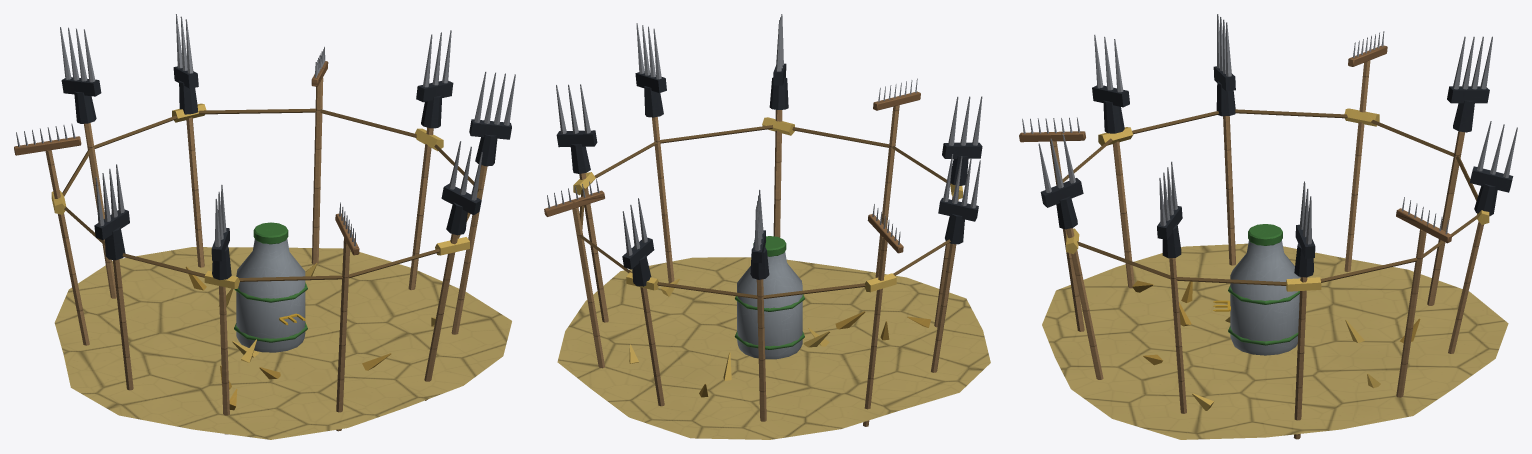
The model's file is rakehand_rake_ring.glb.
3 views of the same model, side by side, from view 1: azimuth 30°, elevation 25°; view 2: azimuth 150°, elevation 25°; view 3: azimuth 270°, elevation 25° (orthographic). The views are drawn at different scales.
Visible parts, largest first — view 1: rakehand_rake_ring.001; view 2: rakehand_rake_ring.001; view 3: rakehand_rake_ring.001.
Boxes of the visible parts, x1,y1,x2,y2 form: rakehand_rake_ring.001: (14,14,515,439); rakehand_rake_ring.001: (544,14,990,439); rakehand_rake_ring.001: (1019,14,1517,439).
Size of the model in its own units: 3.47 by 2.31 by 3.68.
11 materials, 11 textured.
